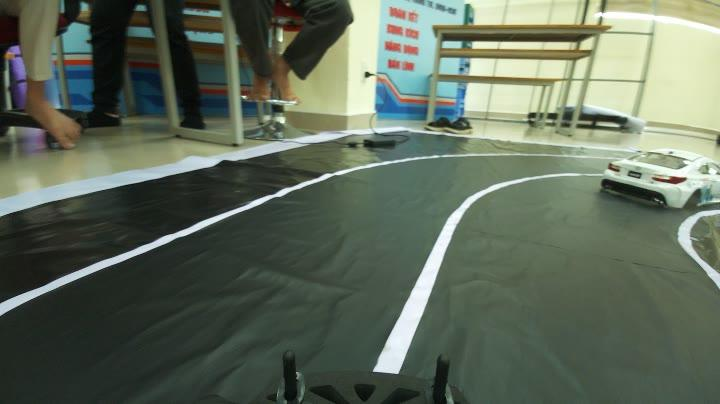car: (603, 132, 720, 216)
